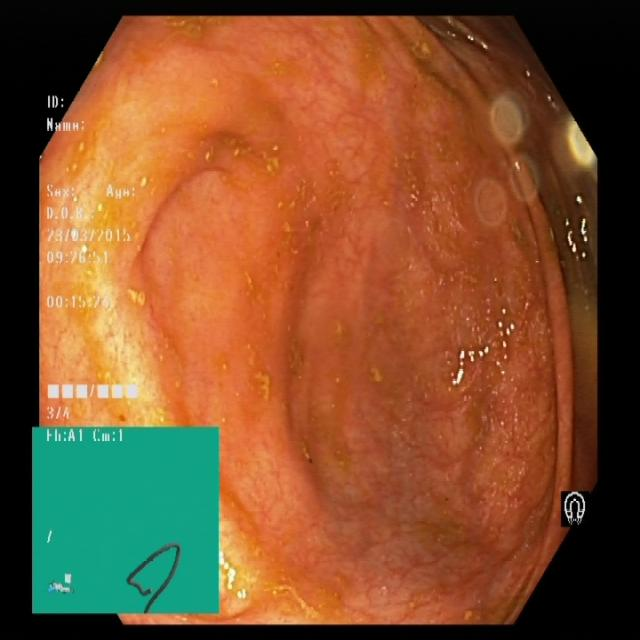normal-cecum: (49, 68, 249, 434)
